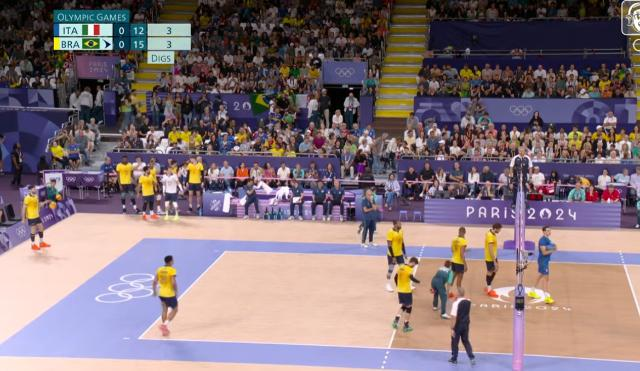Levantador: (392, 257, 421, 331), (534, 227, 556, 298)
bola: (48, 200, 56, 208)
